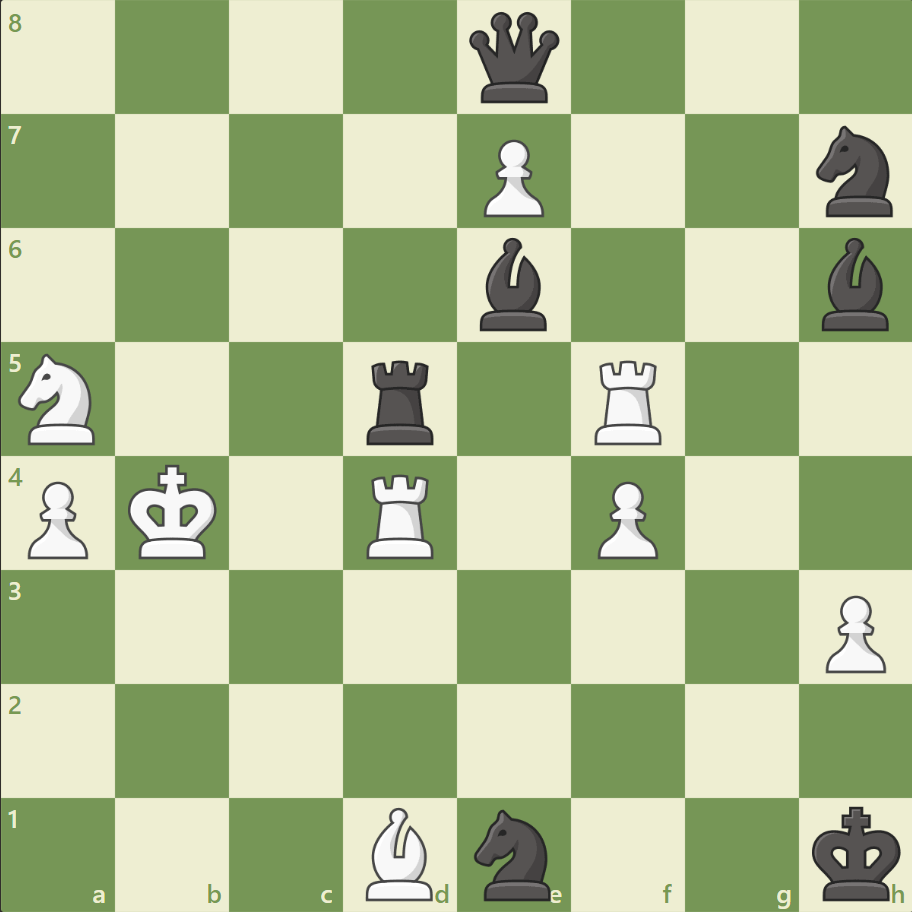B: (358, 801, 442, 904)
K: (124, 458, 224, 566)
N: (11, 348, 108, 450)
P: (474, 132, 549, 223), (20, 473, 95, 564), (588, 473, 662, 564), (815, 586, 889, 677)
R: (587, 352, 670, 449), (360, 466, 442, 563)
b: (471, 233, 555, 336), (812, 233, 896, 336)
k: (806, 798, 906, 906)
n: (806, 121, 903, 223), (465, 802, 562, 904)
q: (464, 9, 563, 108)
r: (360, 352, 442, 449)
